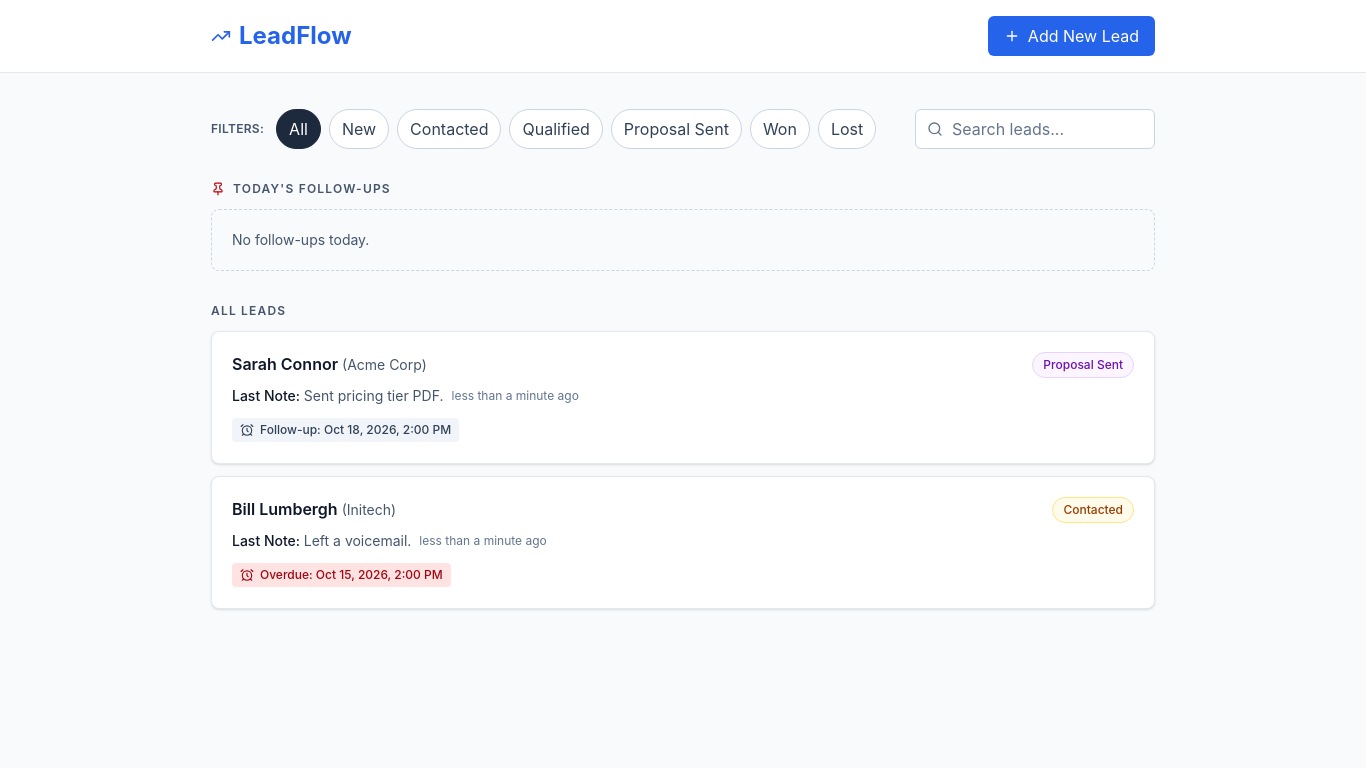
Test: retains note text on API failure and maps follow-up errors to its inputs
The width and height of the screenshot is (1366, 768).
Click the button with aria-label "View Sarah Connor" at (285, 364), box [211,331,1155,464]
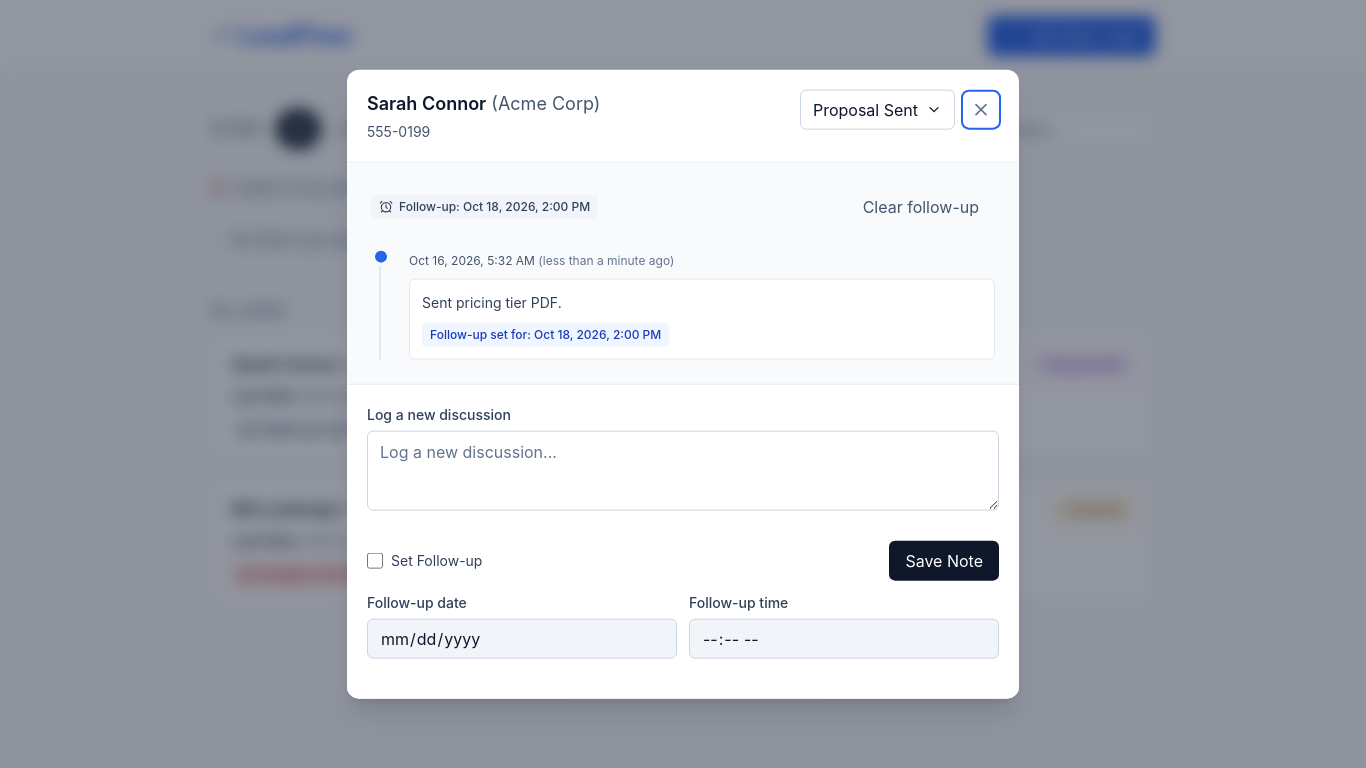
Type "Keep this note" into the text box labelled "Log a new discussion" at (683, 470), box [367,430,999,510]
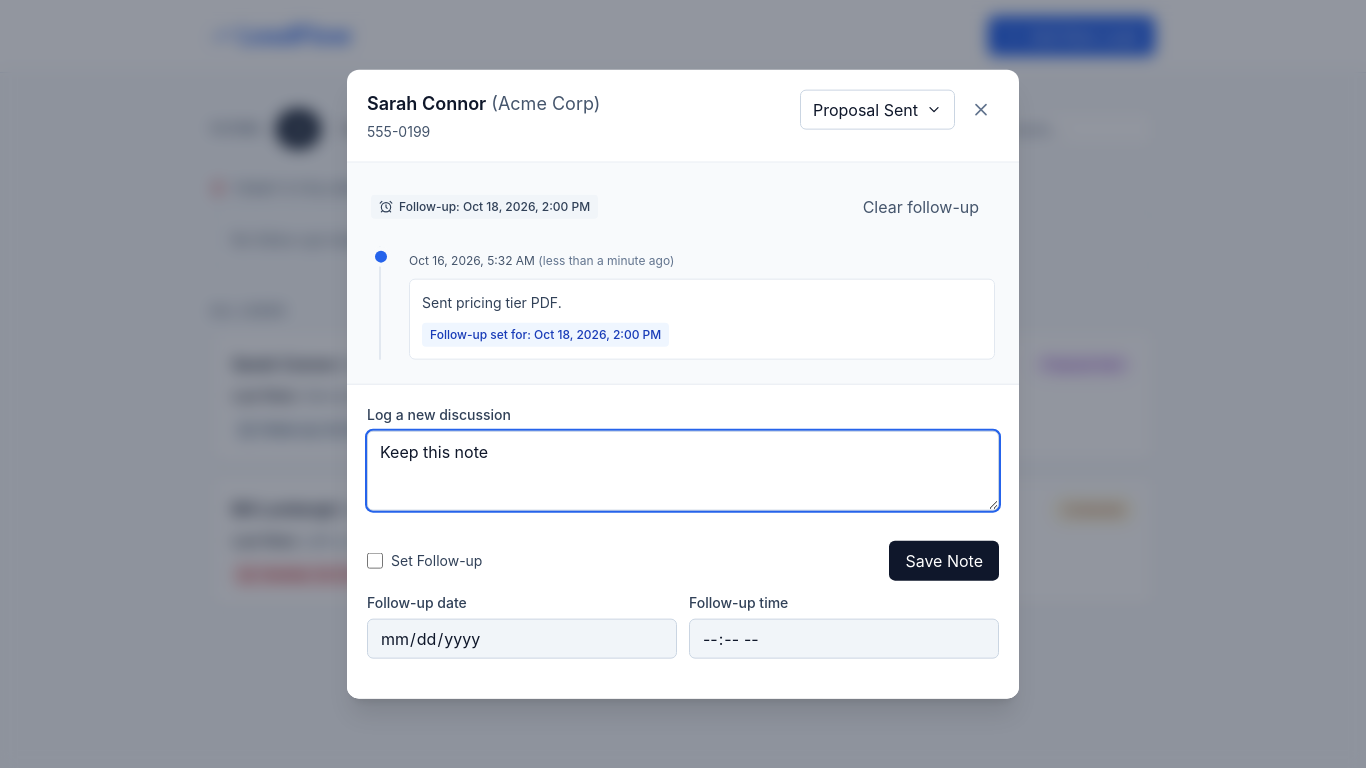
Click the button "Save Note" at (944, 560), box [889,540,999,580]
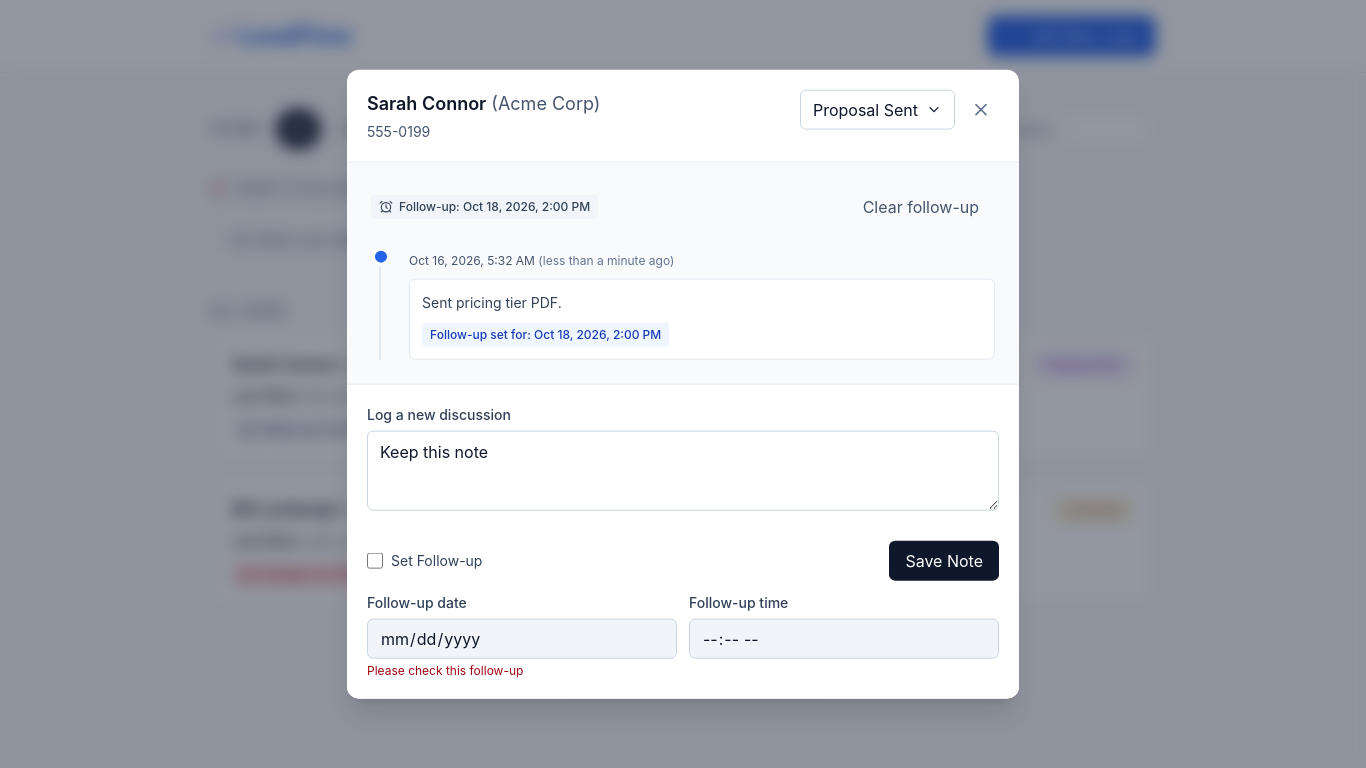
Check: the text "Please check this follow-up" is shown, box [367,662,523,677]
